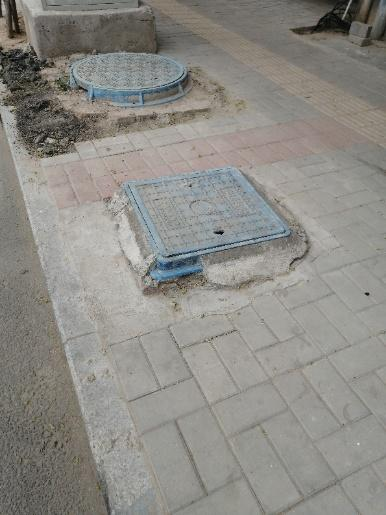wellcover: (119, 163, 318, 289), (70, 46, 198, 107)
